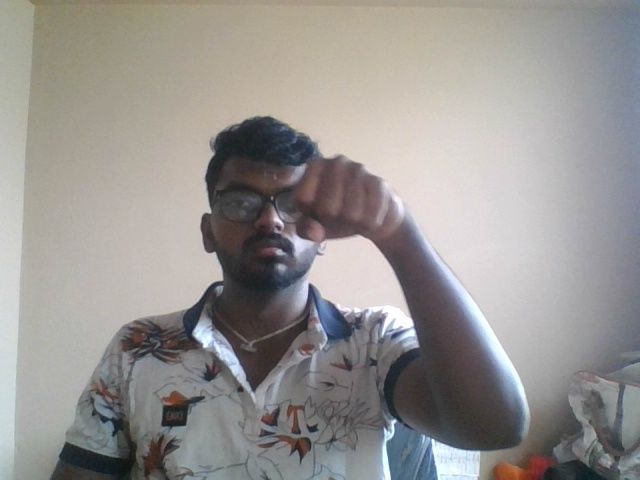Yes: (278, 149, 440, 310)
